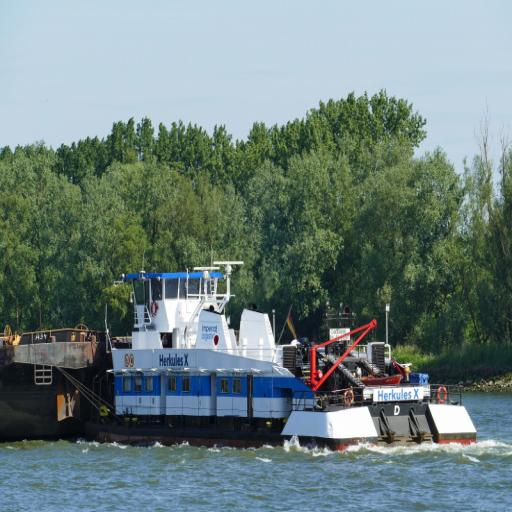tugboat: (81, 247, 481, 461)
